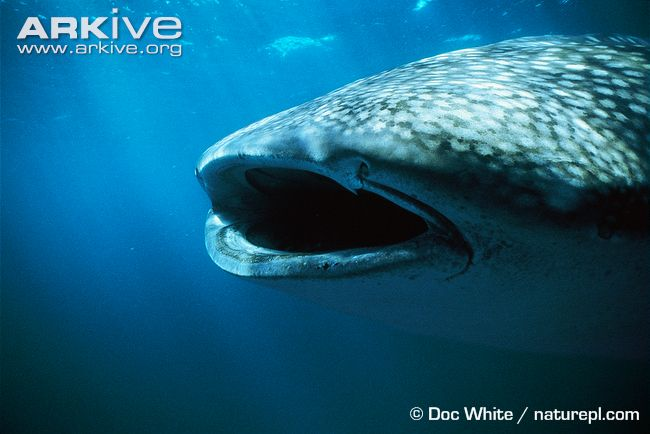shark: (191, 17, 644, 373)
